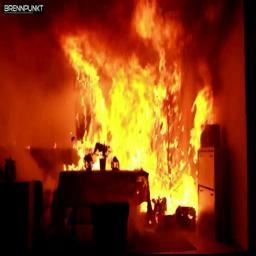fire: (45, 1, 231, 224)
